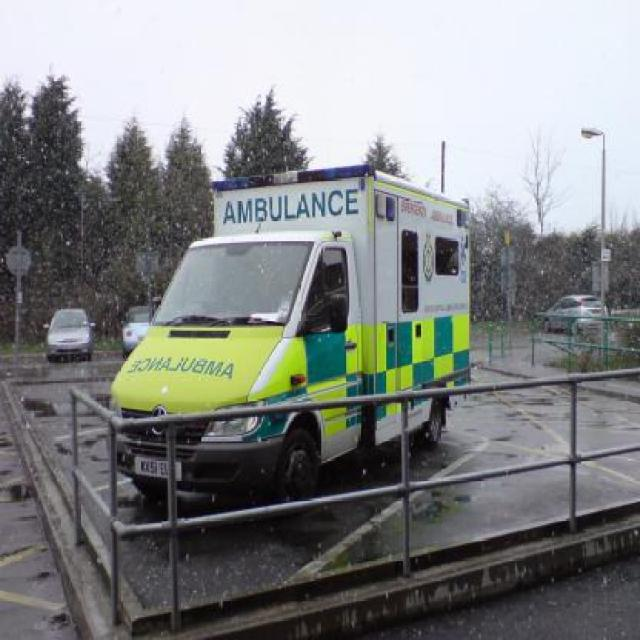Car: (104, 159, 473, 510)
